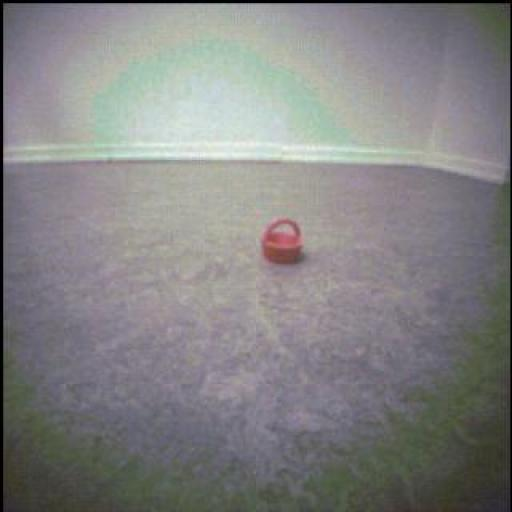Bucket: (262, 219, 303, 265)
